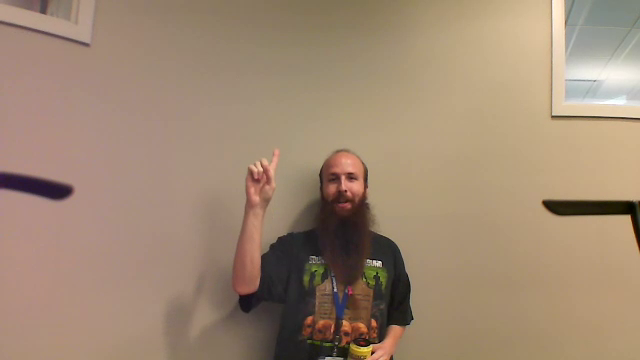up: (241, 146, 284, 218)
